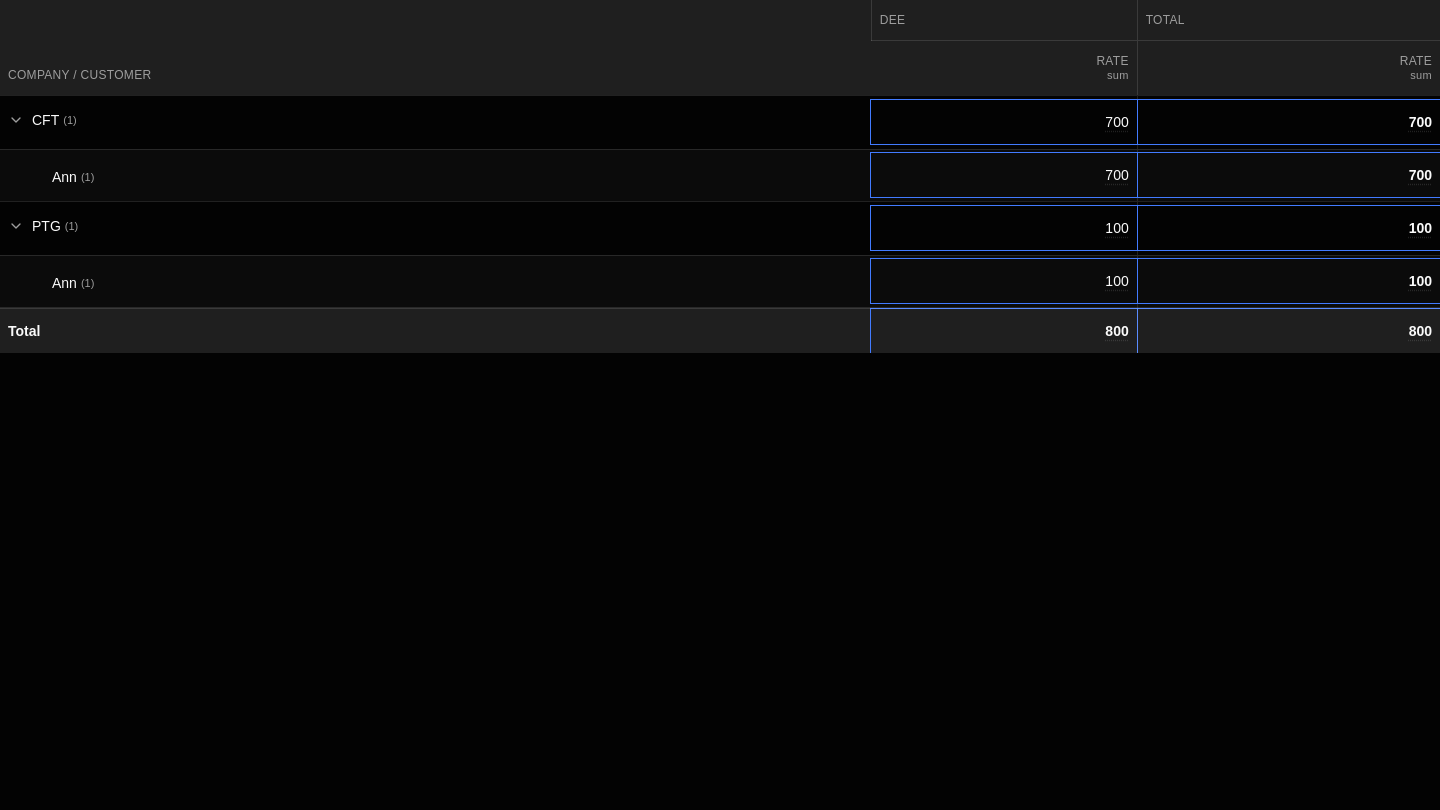
Test case: the dialog answers for the cell that opened it › names the row's whole ANCESTRY, not just its leaf bucket
Click the 3rd button "700" at (1117, 175), box [871, 153, 1137, 197]
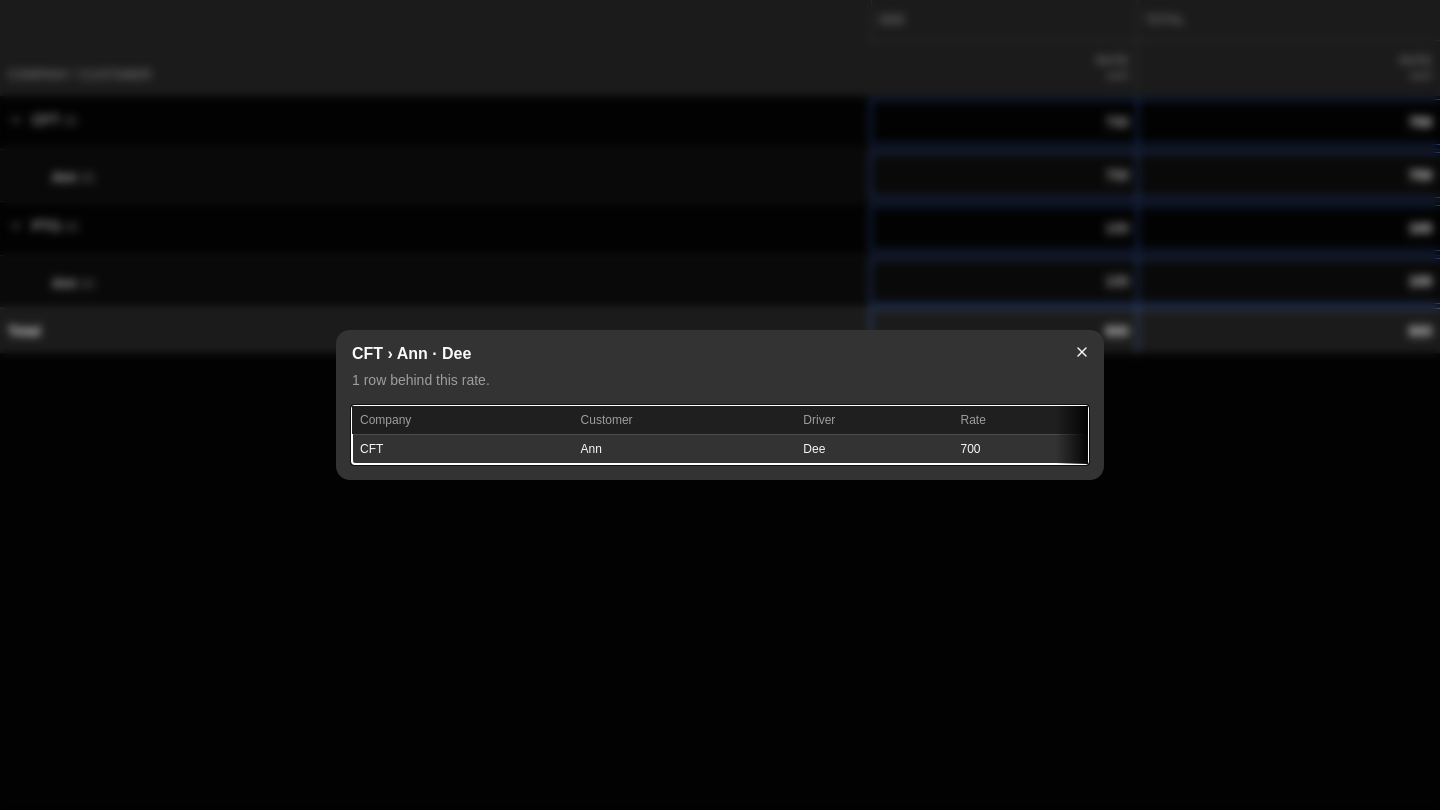
Now the dialog shows "CFT › Ann", box [352, 345, 428, 362]
